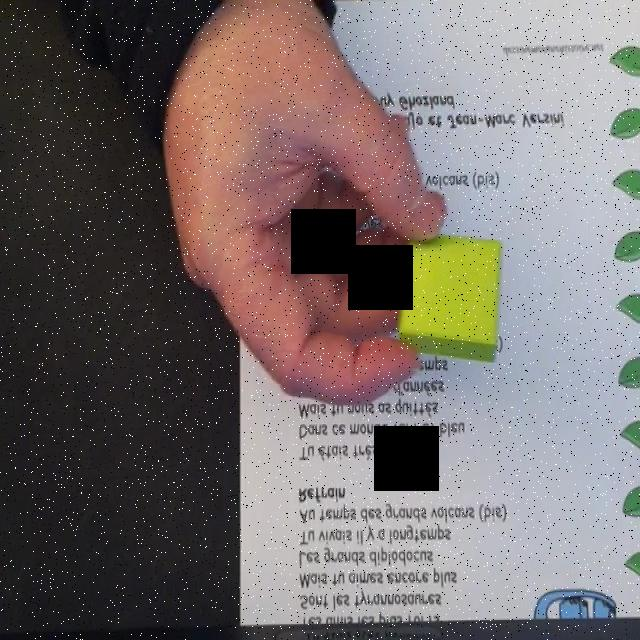square: (397, 231, 502, 364)
